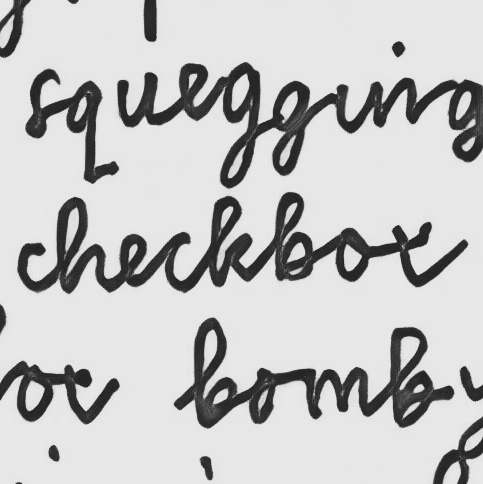b: (271, 190, 316, 285)
c: (161, 229, 195, 294), (15, 239, 48, 294)
e: (115, 232, 152, 288)
h: (54, 195, 109, 296)
k: (206, 193, 254, 288)
o: (331, 224, 371, 286)
x: (383, 219, 434, 289)
